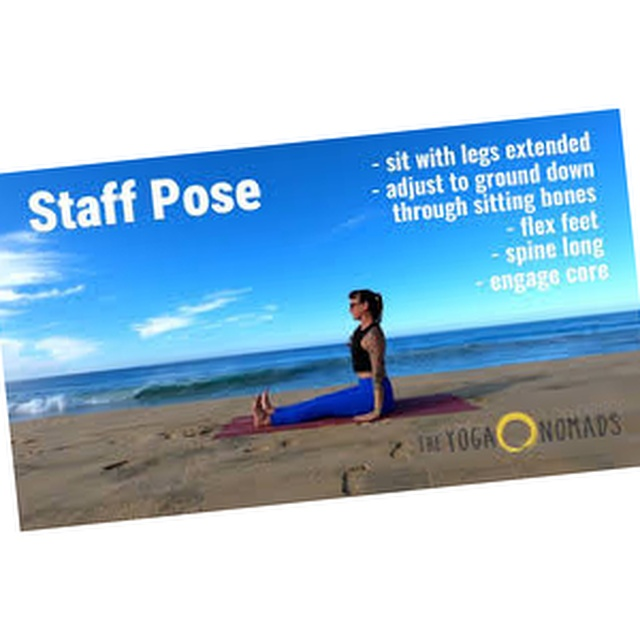Staff_Pose: (251, 288, 396, 432)
